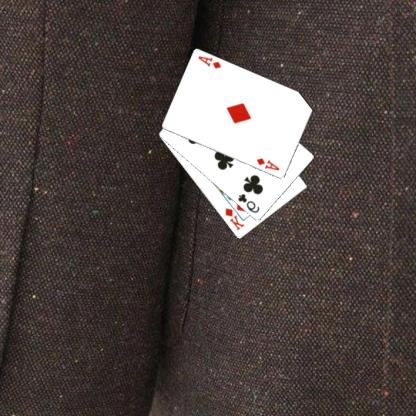6C: (236, 191, 262, 214)
AD: (197, 53, 224, 70), (256, 156, 283, 172)
KD: (224, 206, 247, 232)
